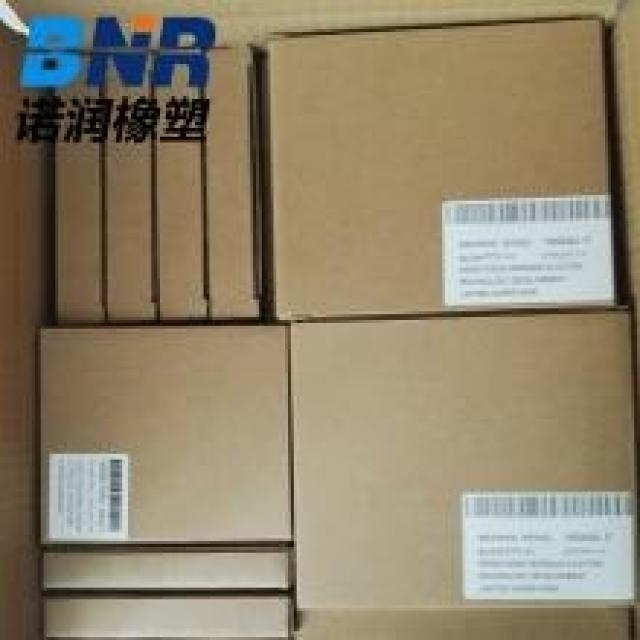box: (265, 17, 617, 323), (288, 308, 634, 611), (41, 326, 291, 541), (204, 44, 262, 320), (41, 596, 291, 640), (41, 550, 291, 591), (154, 140, 207, 323), (105, 140, 157, 323), (55, 143, 105, 323), (294, 614, 630, 639)
